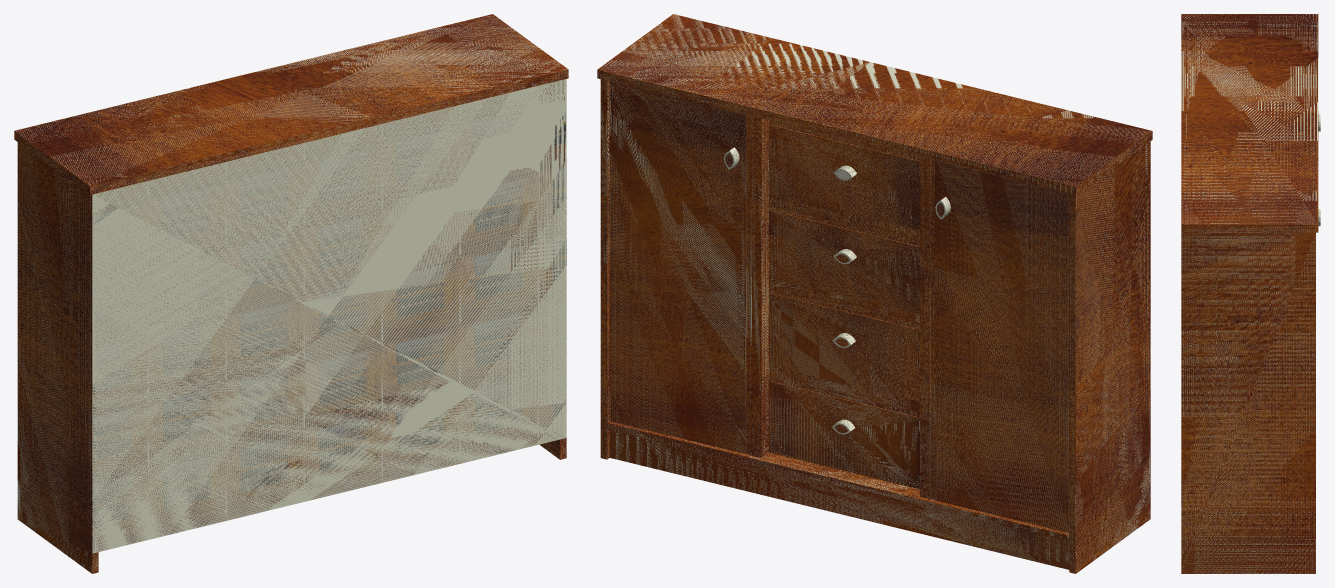
The picture shows the model from 3 angles, left to right: view 1: azimuth 30°, elevation 25°; view 2: azimuth 150°, elevation 25°; view 3: azimuth 270°, elevation 25°; orthographic projection. The views are drawn at different scales.
Parts seen in each view (by area): view 1: mesh1_mesh1-geometry; view 2: mesh1_mesh1-geometry; view 3: mesh1_mesh1-geometry.
Boxes of the visible parts, x1=… form: mesh1_mesh1-geometry: x1=14, y1=14, x2=568, y2=573; mesh1_mesh1-geometry: x1=597, y1=14, x2=1152, y2=573; mesh1_mesh1-geometry: x1=1181, y1=14, x2=1320, y2=573.
Bounding box in the file's own units: 0.7719 × 0.5981 × 0.2156.
